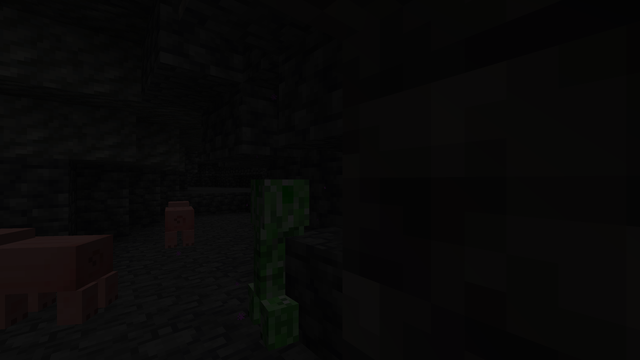cochons: (4, 229, 99, 337), (156, 205, 202, 248)
creepers: (242, 171, 316, 348)
